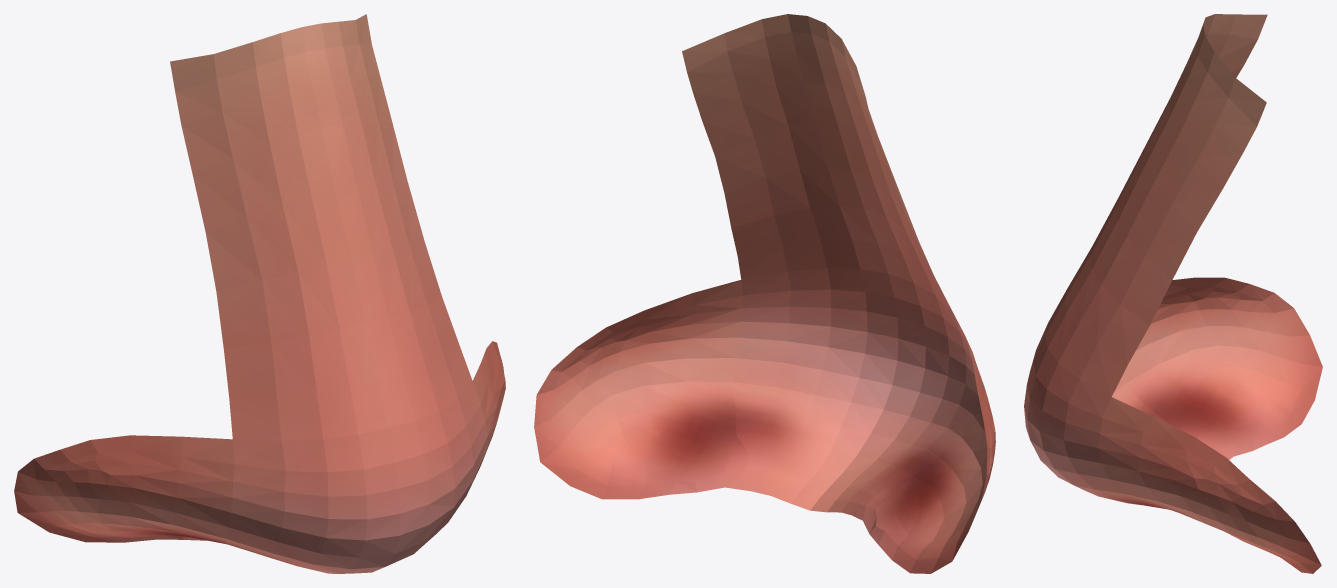
The model's file is euro-fem-nostrils-wide.obj.
3 views of the same model, side by side, from view 1: azimuth 30°, elevation 25°; view 2: azimuth 150°, elevation 25°; view 3: azimuth 270°, elevation 25° (orthographic). The views are drawn at different scales.
Parts seen in each view (by area): view 1: euro-fem-nostrils-wid.001; view 2: euro-fem-nostrils-wid.001; view 3: euro-fem-nostrils-wid.001.
Boxes of the visible parts, x1,y1,x2,y2 form: euro-fem-nostrils-wid.001: (14, 14, 505, 573); euro-fem-nostrils-wid.001: (534, 14, 995, 573); euro-fem-nostrils-wid.001: (1024, 14, 1322, 573).
Bounding box in the file's own units: 0.3044 × 0.3253 × 0.1814.
Materials: 1 (1 with a texture image).
